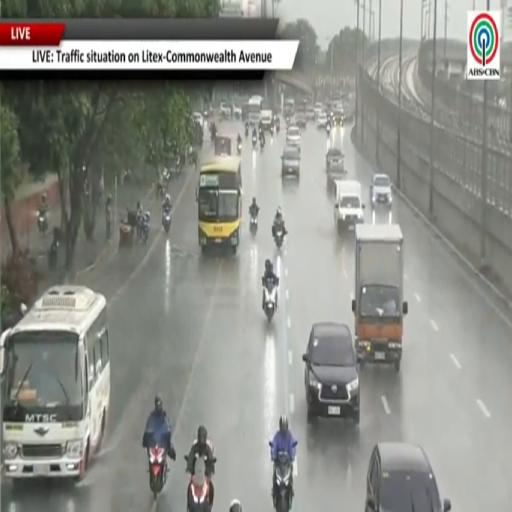bus: (0, 285, 110, 479), (197, 156, 242, 253), (215, 134, 236, 155), (248, 95, 263, 124)
car: (365, 442, 451, 511), (303, 323, 359, 424), (370, 174, 392, 206), (326, 148, 345, 180), (282, 147, 300, 178), (286, 125, 300, 147), (332, 105, 344, 125), (316, 111, 327, 129), (220, 103, 232, 119), (295, 112, 306, 129), (192, 112, 203, 125), (306, 105, 315, 120), (233, 104, 241, 120), (314, 103, 323, 117)
motorcycle: (188, 457, 211, 511), (148, 445, 168, 500), (274, 453, 292, 511), (262, 278, 277, 321), (48, 228, 61, 270), (48, 239, 59, 270), (140, 211, 150, 244), (274, 228, 284, 249), (38, 211, 47, 234), (162, 210, 171, 233), (162, 168, 171, 186), (250, 216, 257, 235), (275, 118, 280, 134), (325, 124, 331, 135), (259, 137, 264, 150), (252, 136, 257, 149), (237, 142, 241, 155), (285, 116, 290, 126), (245, 126, 248, 138)
truck: (352, 223, 408, 372), (334, 180, 365, 234)
